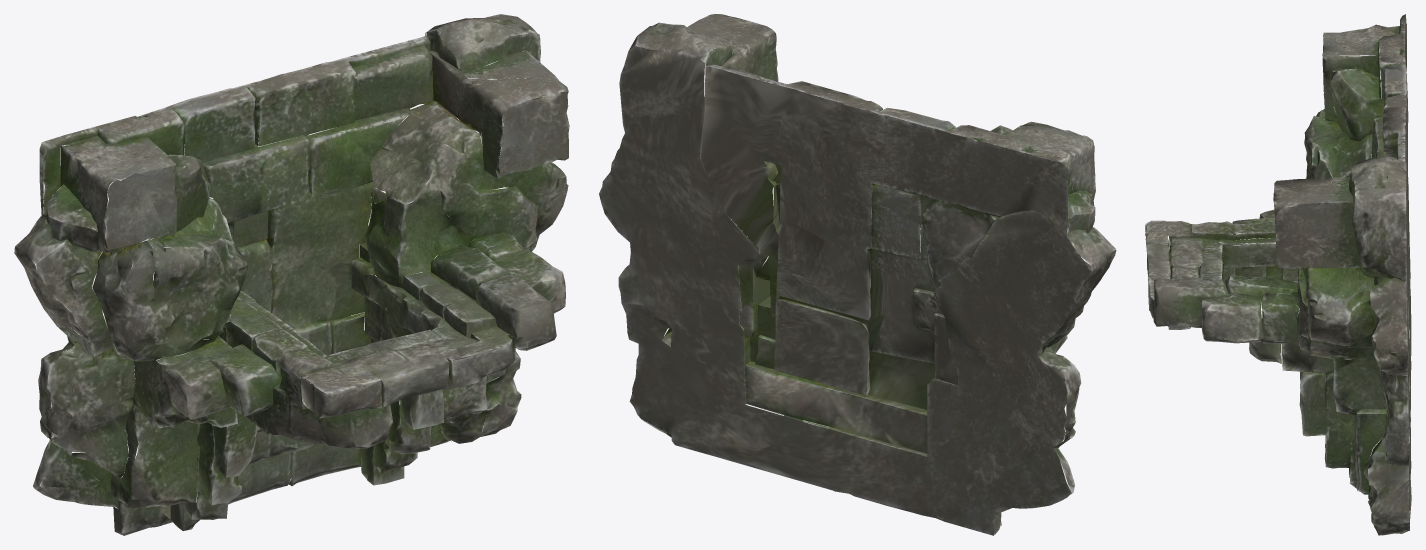
File: rovina_arco_muschio.gltf
The picture shows the model from 3 angles, left to right: view 1: azimuth 30°, elevation 25°; view 2: azimuth 150°, elevation 25°; view 3: azimuth 270°, elevation 25°; orthographic projection. The views are drawn at different scales.
Visible parts, largest first — view 1: rovina_arco_muschio; view 2: rovina_arco_muschio; view 3: rovina_arco_muschio.
Part boxes in pixels (x1=…): rovina_arco_muschio: x1=14, y1=14, x2=569, y2=535; rovina_arco_muschio: x1=599, y1=14, x2=1116, y2=535; rovina_arco_muschio: x1=1145, y1=14, x2=1411, y2=535.
Bounding box in the file's own units: 12.03 × 9.6 × 6.1.
1 material, 1 textured.
